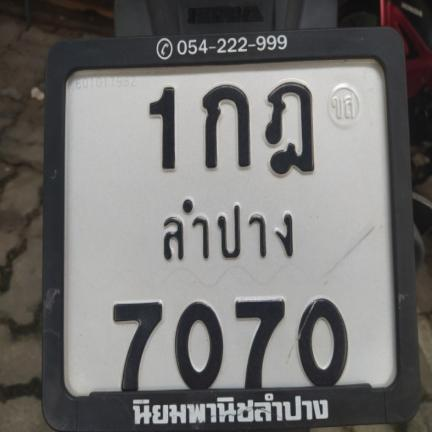0: (294, 291, 351, 389), (171, 295, 226, 393)
1: (137, 78, 186, 176)
7: (228, 292, 289, 391), (109, 296, 165, 393)
A01: (197, 77, 256, 174)
A14: (262, 75, 320, 180)
LPG: (141, 187, 302, 271)
